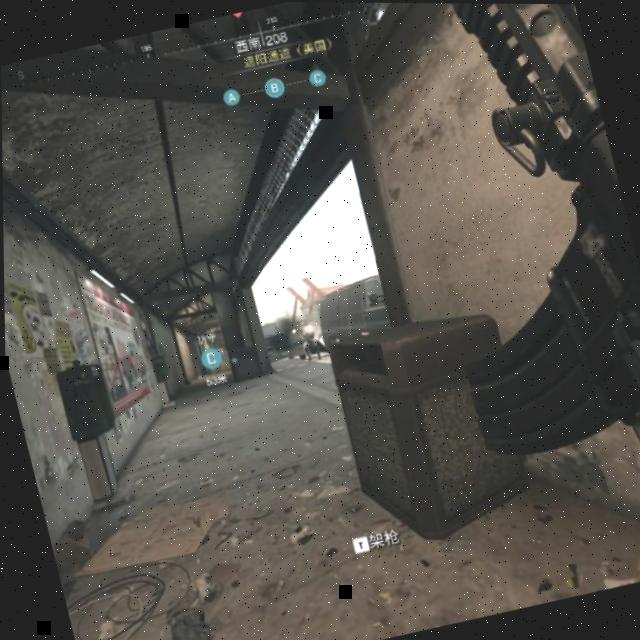MW2_body: (296, 317, 322, 363)
